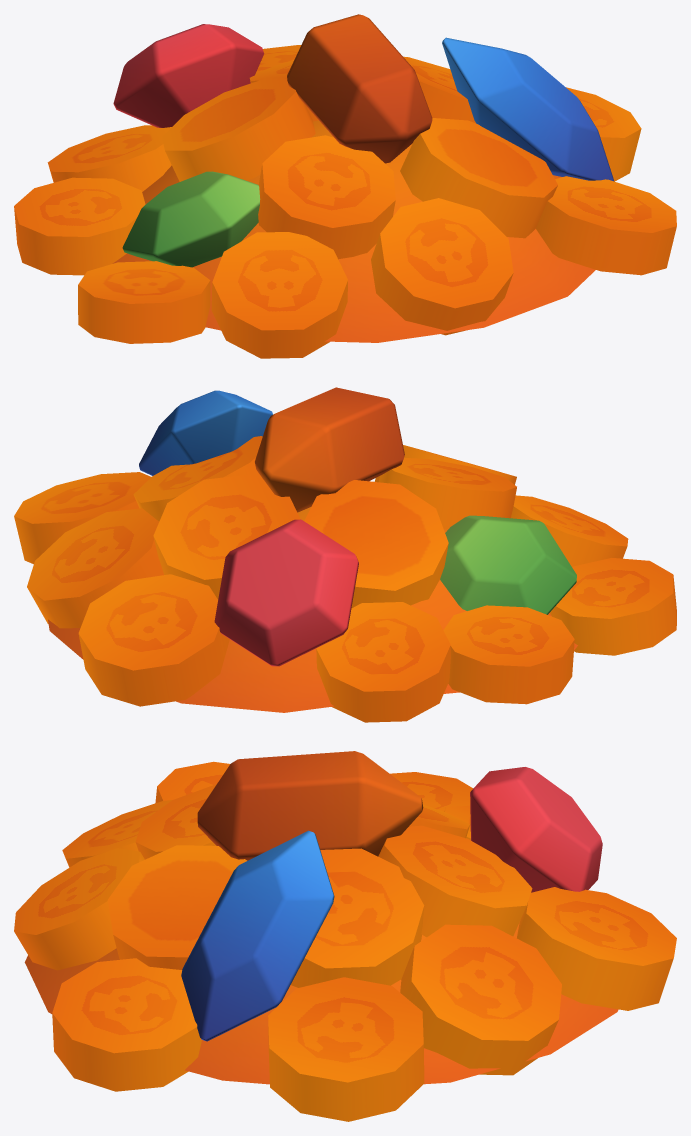
The model's file is GoldPileSmall_001.glb.
3 renders of one model, top to bottom at view 1: azimuth 30°, elevation 25°; view 2: azimuth 150°, elevation 25°; view 3: azimuth 270°, elevation 25°, orthographic. The views are drawn at different scales.
Parts seen in each view (by area): view 1: GoldPileSmall_001; view 2: GoldPileSmall_001; view 3: GoldPileSmall_001.
Part boxes in pixels (x1,y1,x2,y2): GoldPileSmall_001: [14, 14, 676, 358]; GoldPileSmall_001: [14, 387, 676, 722]; GoldPileSmall_001: [14, 751, 676, 1121].
Size of the model in its own units: 1.43 by 0.4587 by 1.28.
Materials: 2 (2 with a texture image).
